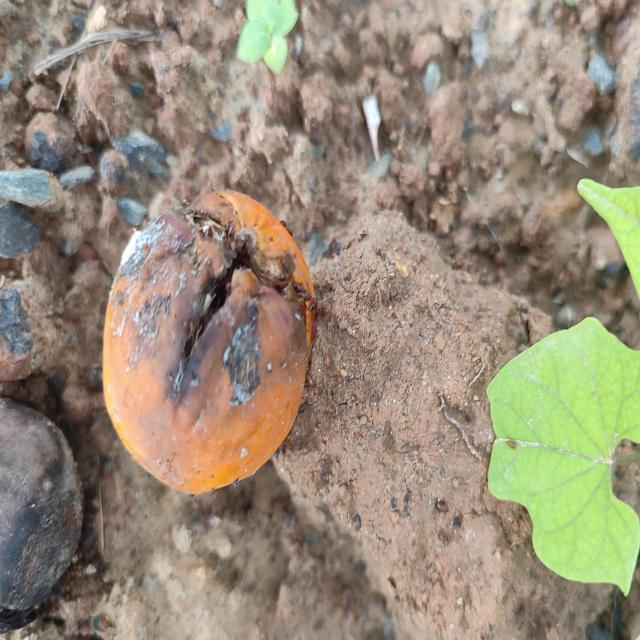damaged: (101, 190, 319, 497)
